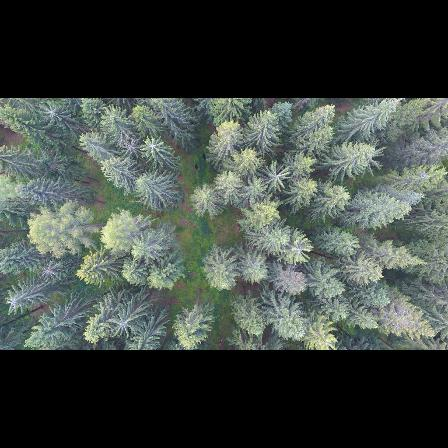Sick: (102, 311, 140, 342), (40, 100, 67, 131), (267, 163, 293, 193), (38, 257, 64, 283), (4, 288, 27, 313)
